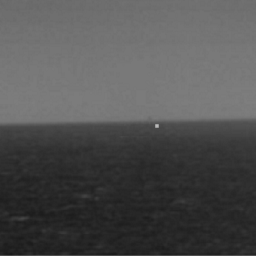Target: (153, 123, 160, 128)
